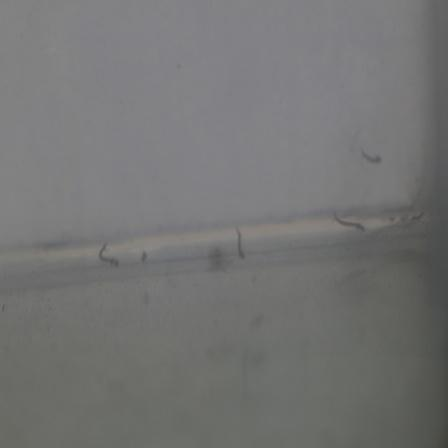Jentik-Nyamuk: (326, 208, 368, 236), (97, 239, 122, 269), (232, 223, 250, 261), (358, 147, 385, 167)
